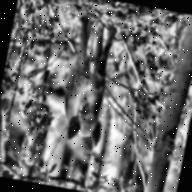boar: (55, 16, 123, 150)
